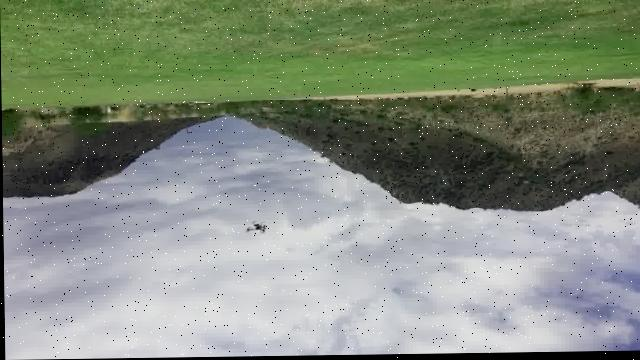drone: (244, 220, 266, 238)
